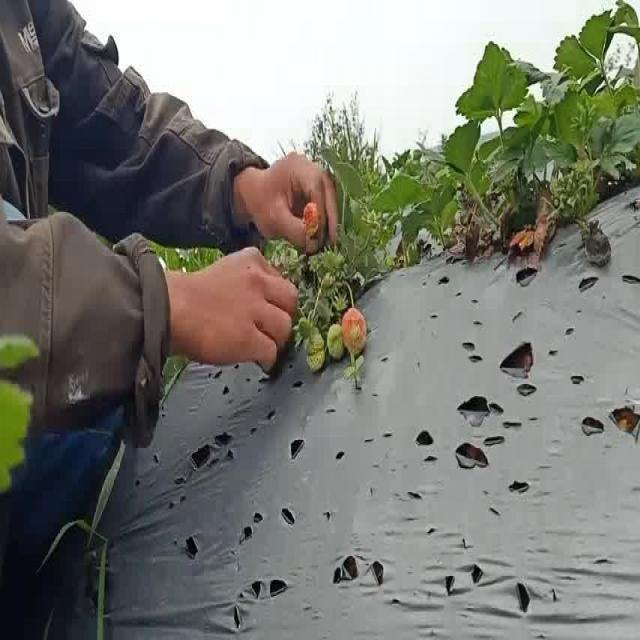Mancha negra Antracnosis: (584, 218, 614, 274)
